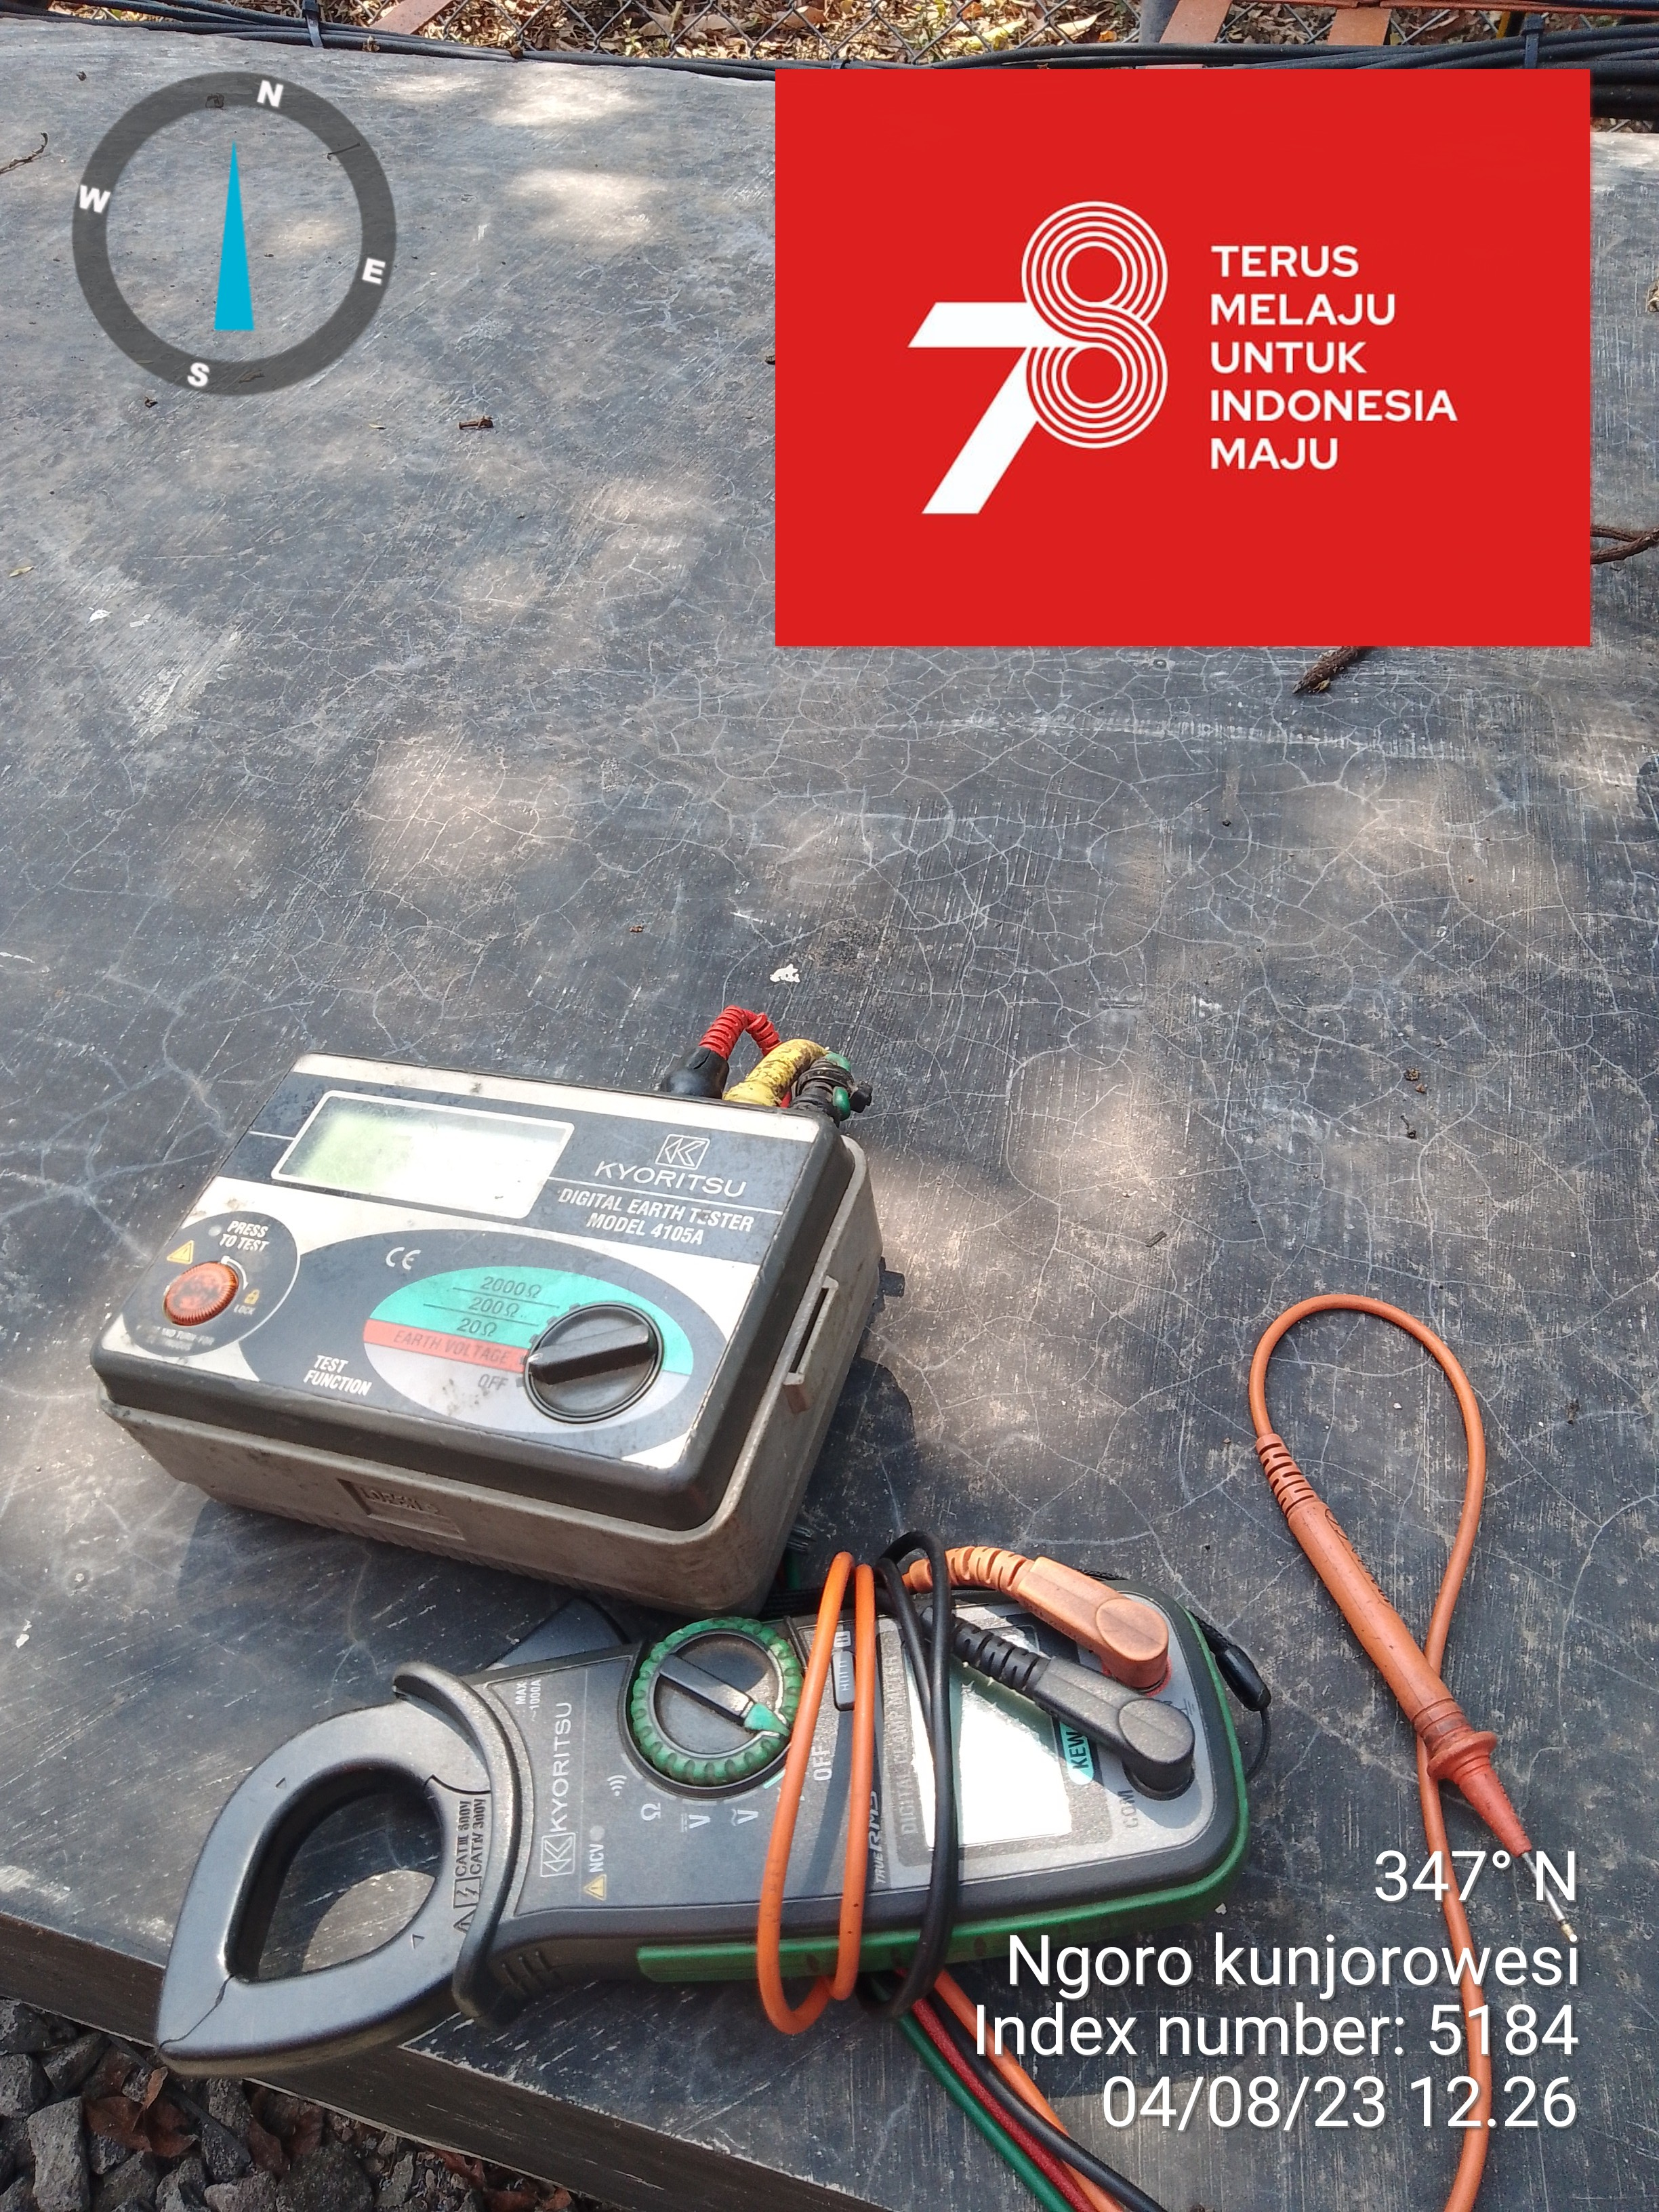EARTH_GROUNDING_TESTER: (85, 1049, 903, 1618)
